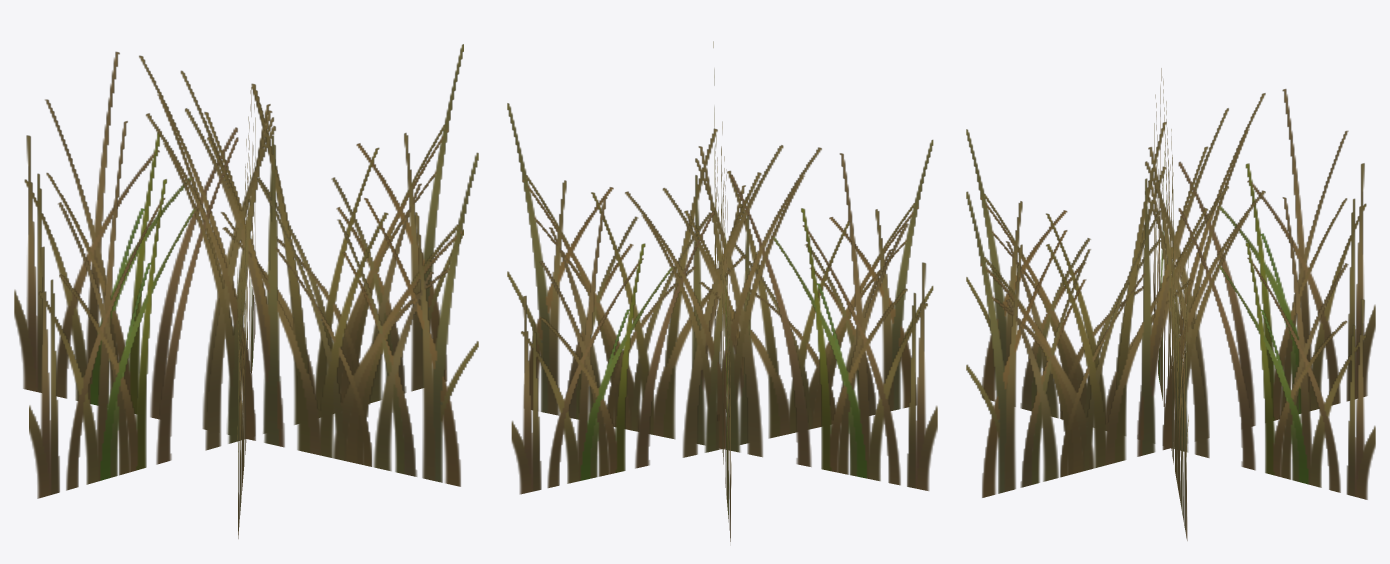
File: grass_clump_3.glb
3 views of the same model, side by side, from view 1: azimuth 30°, elevation 25°; view 2: azimuth 150°, elevation 25°; view 3: azimuth 270°, elevation 25° (orthographic). The views are drawn at different scales.
Visible parts, largest first — view 1: grass_clump_3; view 2: grass_clump_3; view 3: grass_clump_3.
Part boxes in pixels (x1,y1,x2,y2): grass_clump_3: (14,44,478,538); grass_clump_3: (507,41,937,541); grass_clump_3: (966,68,1375,540).
Size of the model in its own units: 0.5984 by 0.4631 by 0.5088.
Materials: 1 (1 with a texture image).
